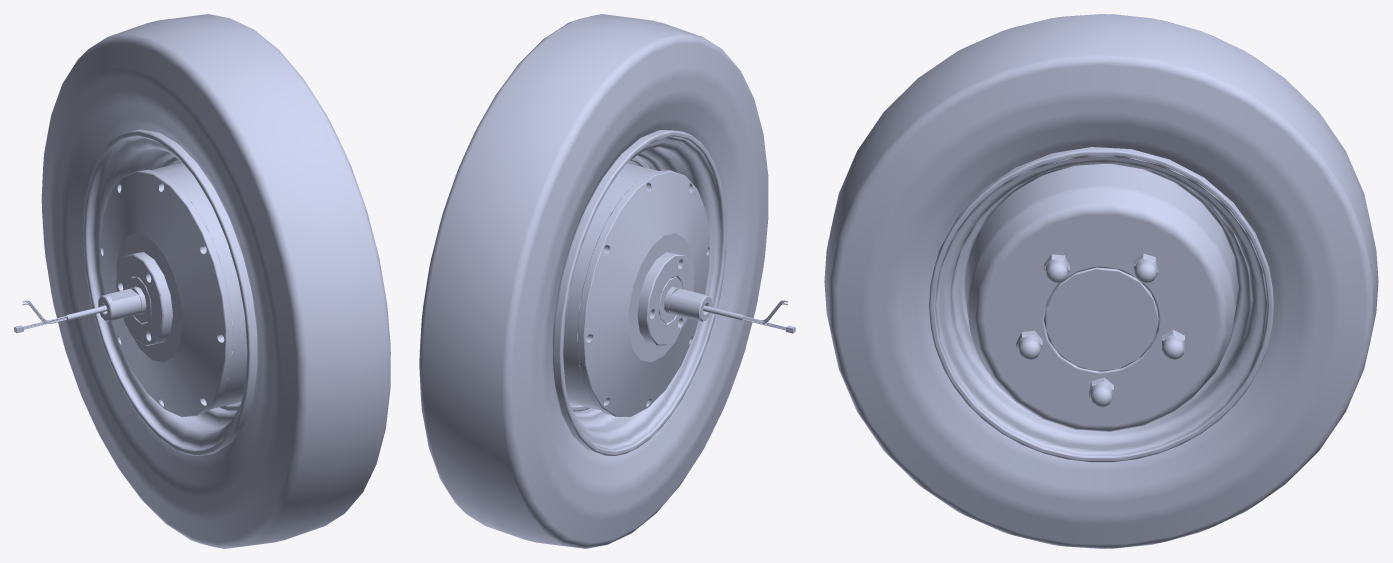
Rendered from wheel_microtractor.obj.
The picture shows the model from 3 angles, left to right: view 1: azimuth 30°, elevation 25°; view 2: azimuth 150°, elevation 25°; view 3: azimuth 270°, elevation 25°; orthographic projection. The views are drawn at different scales.
Visible parts, largest first — view 1: Body6, Body19, Body7, Body4, Body1, Body2; view 2: Body6, Body19, Body7, Body4, Body1; view 3: Body6, Body8, Body7, Body3.
Part boxes in pixels (x1=…): Body6: x1=41, y1=14, x2=390, y2=548; Body19: x1=100, y1=169, x2=232, y2=417; Body7: x1=83, y1=129, x2=257, y2=455; Body4: x1=132, y1=162, x2=246, y2=408; Body1: x1=98, y1=287, x2=146, y2=321; Body2: x1=101, y1=286, x2=146, y2=320; Body6: x1=419, y1=14, x2=768, y2=548; Body19: x1=578, y1=170, x2=709, y2=416; Body7: x1=553, y1=130, x2=726, y2=455; Body4: x1=563, y1=163, x2=682, y2=410; Body1: x1=664, y1=287, x2=712, y2=321; Body6: x1=824, y1=14, x2=1378, y2=548; Body8: x1=965, y1=164, x2=1237, y2=431; Body7: x1=929, y1=147, x2=1273, y2=462; Body3: x1=1044, y1=267, x2=1158, y2=371.
Bounding box in the file's own units: 345 × 529 × 530.
